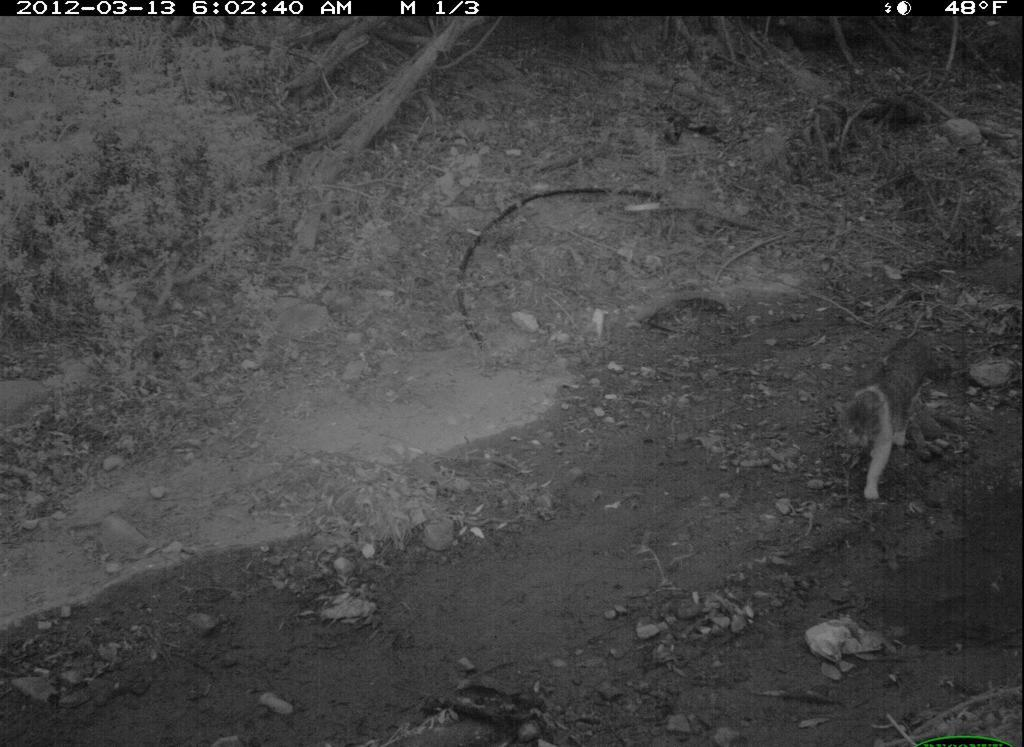cat: (827, 321, 977, 515)
